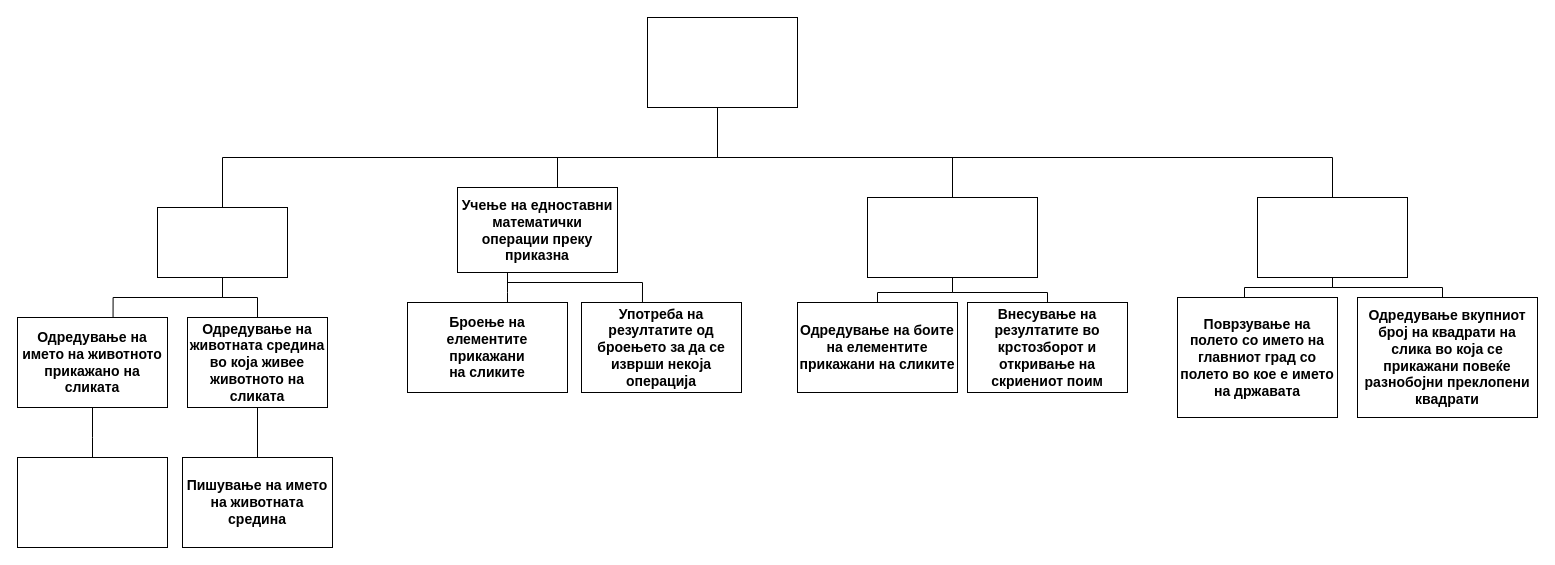
Some shapes in this 1555 by 565 pixel diagram are drawn without their labels. The centre of each missing label's shape, as x and y in pixels:
Вежбање на меморија и развивање логика: (x=1332, y=237)
Забавна едукација за деца од аутистичен спектар: (x=722, y=62)
Запознавање со животинскиот свет: (x=222, y=242)
Игри во вид на сложувалки и крстозбори за учење на нови поими: (x=952, y=237)
Пишување на името на животното: (x=92, y=502)
